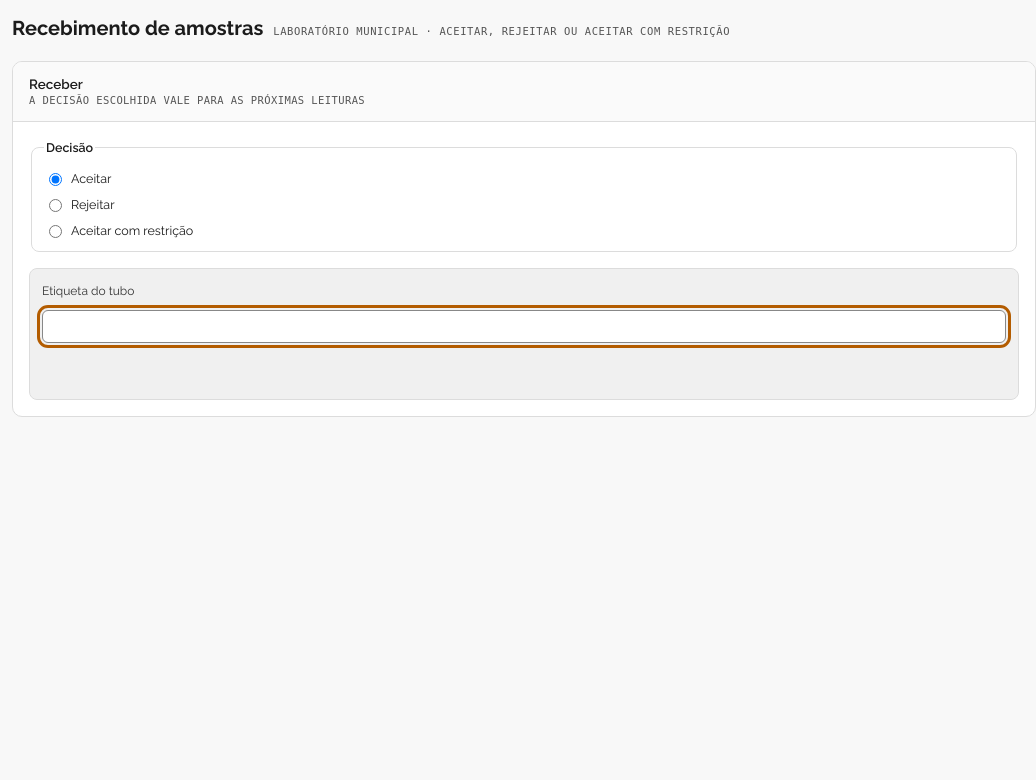
Test case: LabReception › depois de uma rejeição a tela volta a aceitar e limpa o motivo
The image size is (1036, 780).
Click the radio button labelled "Rejeitar". click: (56, 205)
box: x1=49 y1=199 x2=62 y2=212
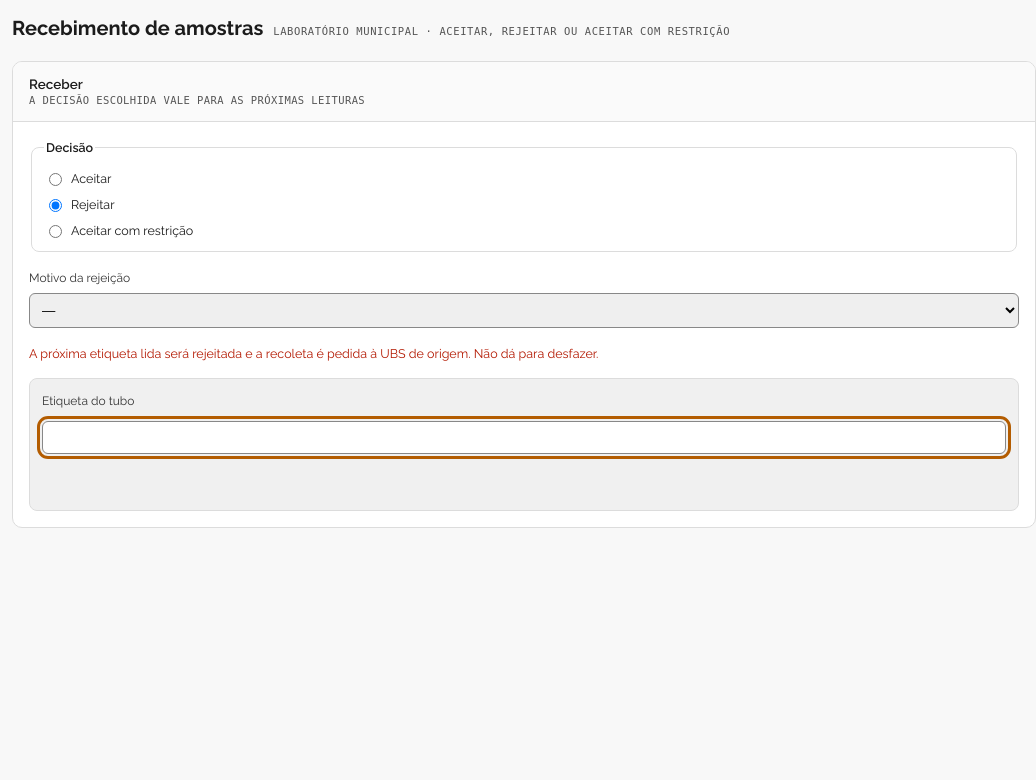
expect the message shows "Não dá para desfazer": met, box x1=29 y1=344 x2=598 y2=361
Select "hemolisada" in the dropdown labelled "Motivo da rejeição". click: (524, 311)
box: x1=29 y1=293 x2=1019 y2=328
Type "0000012301" into the field labelled "Etiqueta do tubo". click: (524, 437)
box: x1=42 y1=421 x2=1006 y2=454
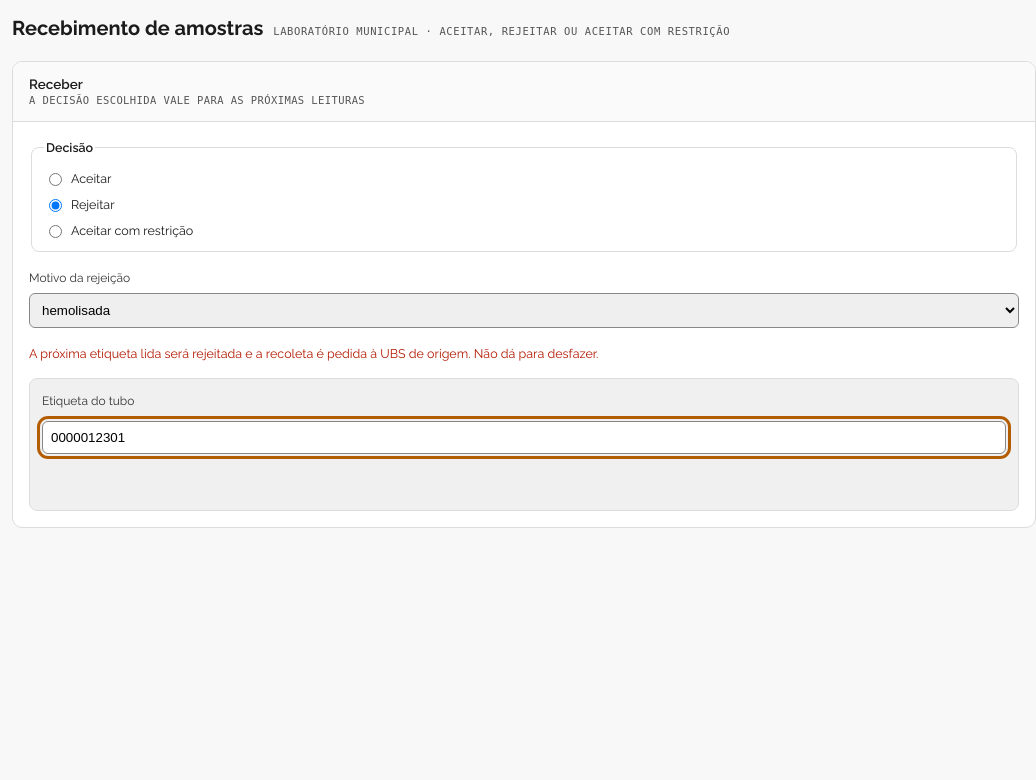
Press Enter in the field labelled "Etiqueta do tubo", box x1=42 y1=421 x2=1006 y2=454
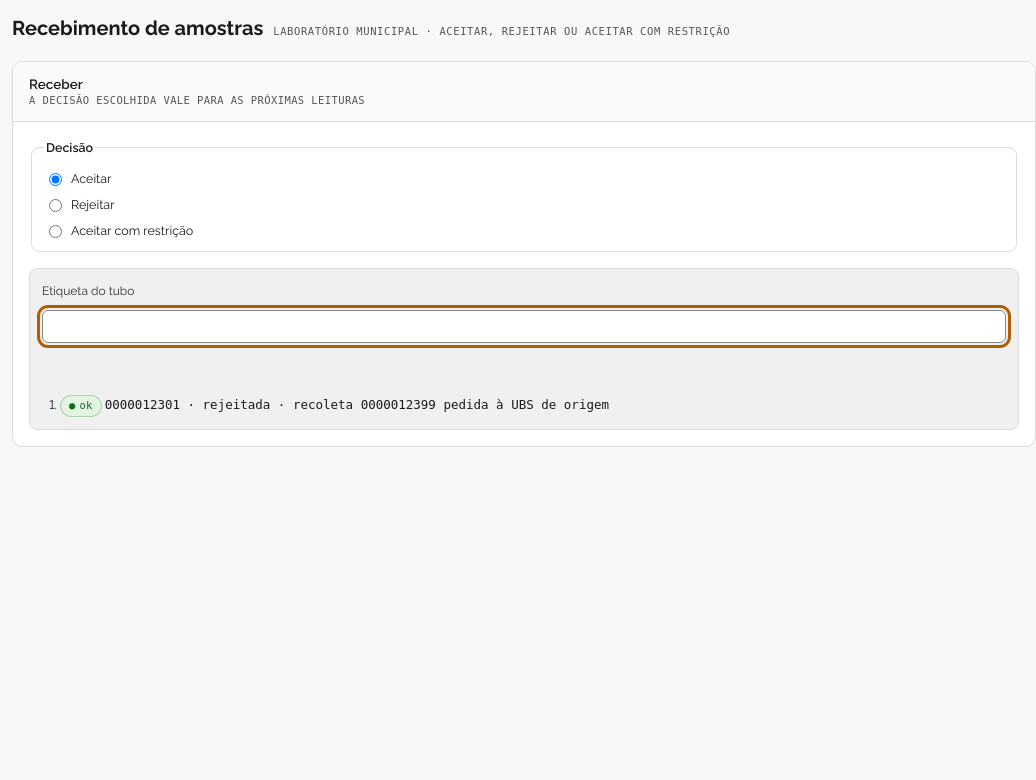
expect the text "rejeitada · recoleta" is shown: met, box x1=105 y1=397 x2=609 y2=412
expect the radio button labelled "Aceitar" is checked: met, box x1=49 y1=173 x2=62 y2=186
Type "0000012302" into the field labelled "Etiqueta do tubo". click: (524, 327)
box: x1=42 y1=310 x2=1006 y2=343
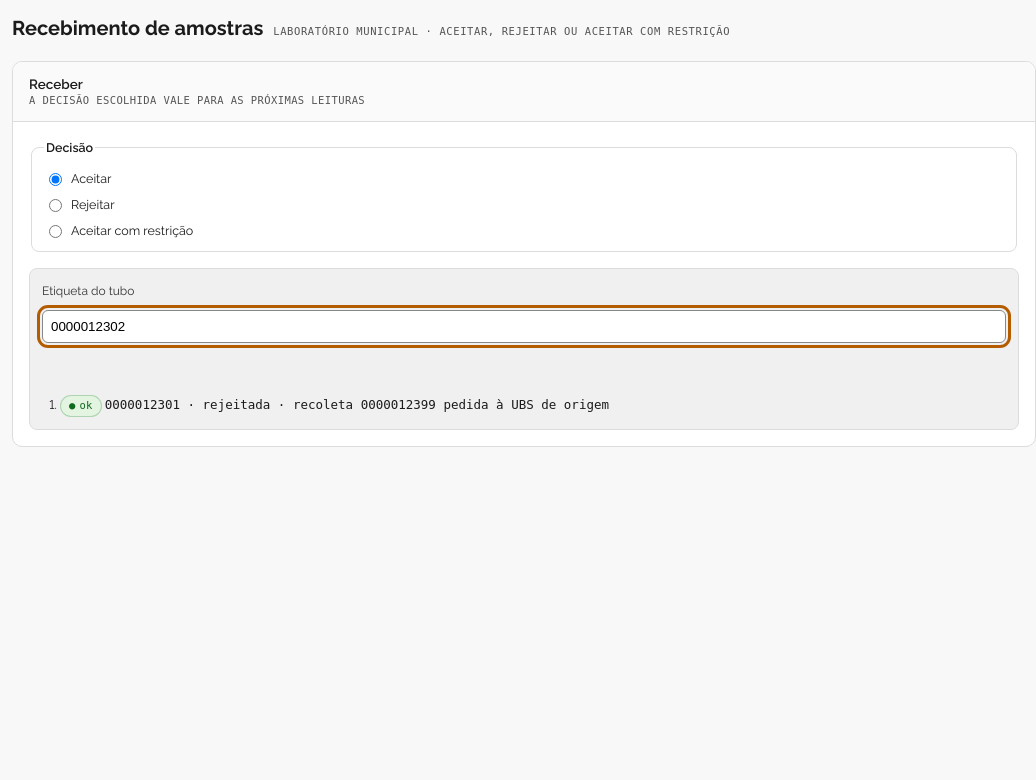
Press Enter in the field labelled "Etiqueta do tubo", box x1=42 y1=310 x2=1006 y2=343
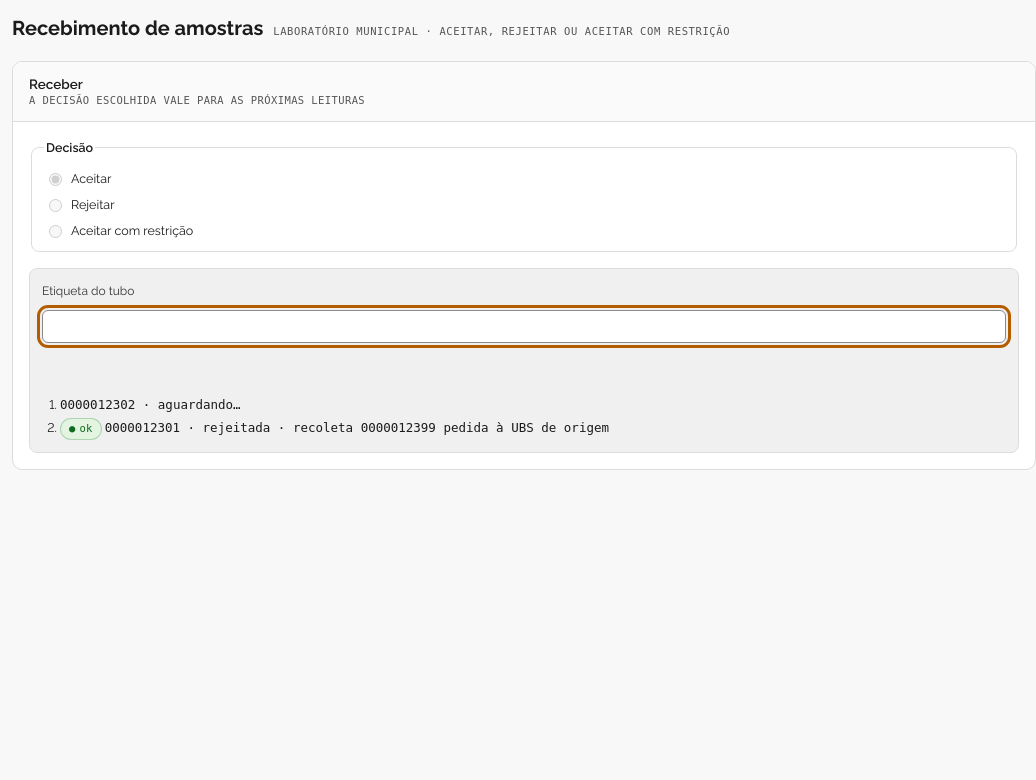
Click the radio button labelled "Rejeitar". click: (56, 205)
box: x1=49 y1=199 x2=62 y2=212
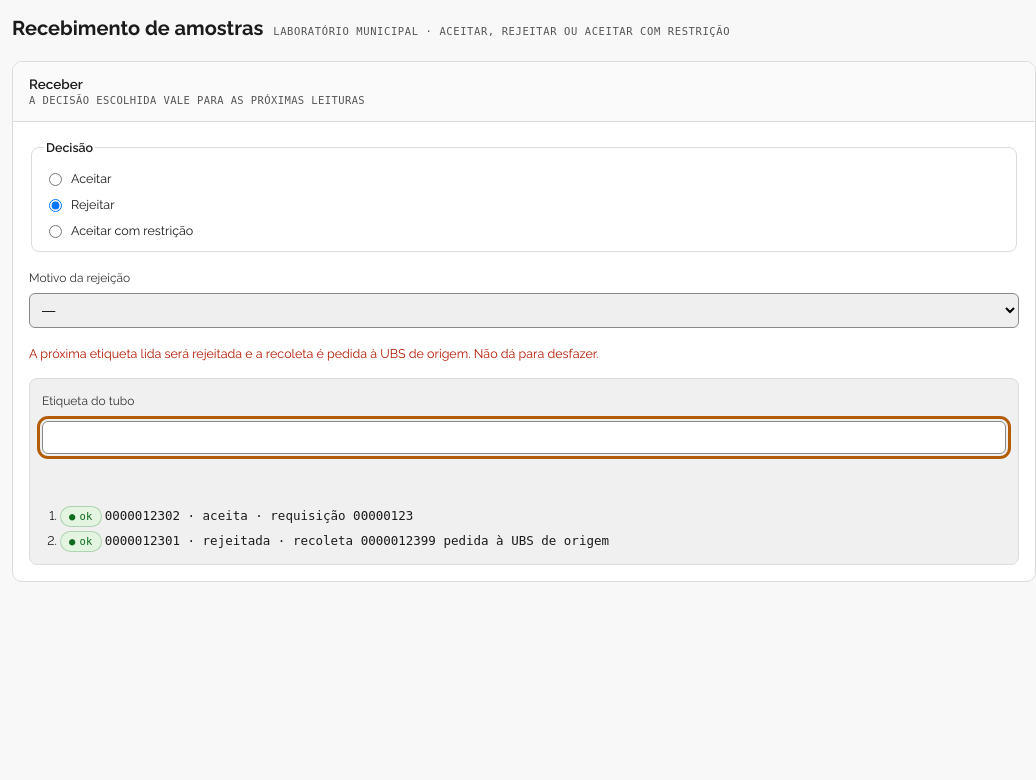
expect the dropdown labelled "Motivo da rejeição" shows "—": met, box x1=29 y1=293 x2=1019 y2=328
